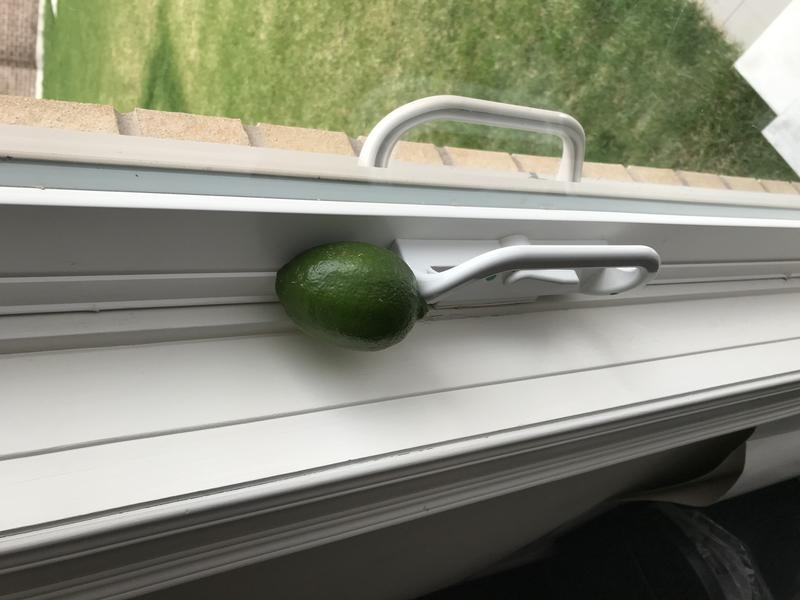lime: (258, 229, 431, 360)
